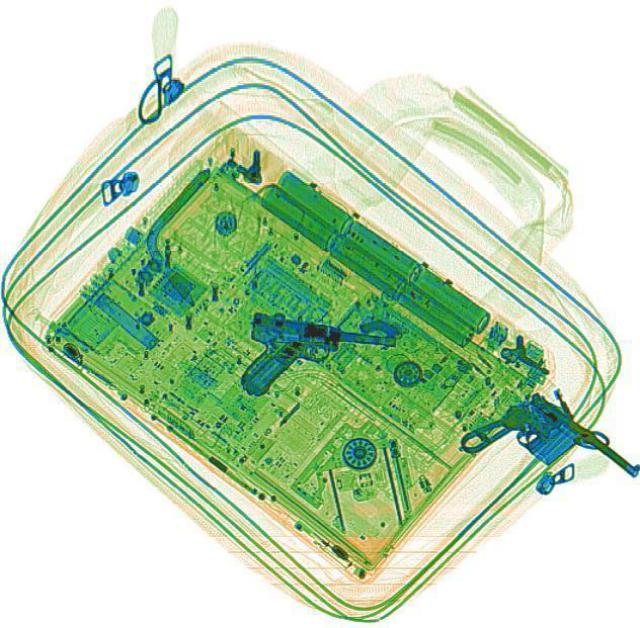Gun: (456, 375, 638, 532), (236, 308, 397, 408)
